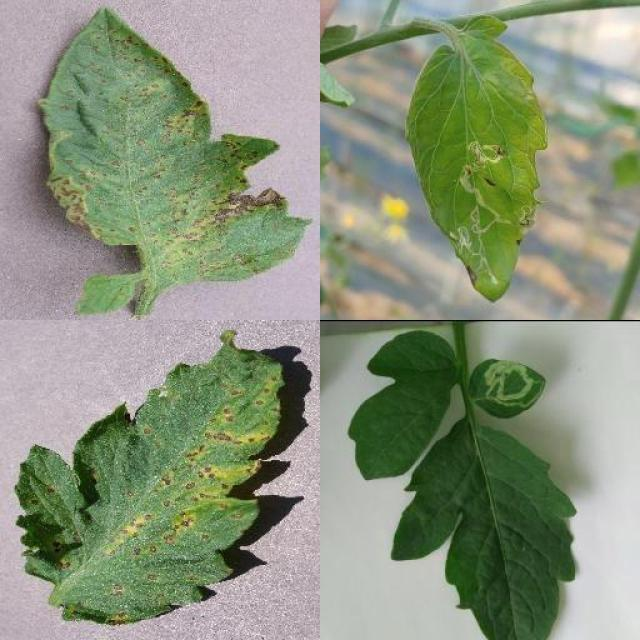Healthy: (390, 415, 579, 640), (348, 329, 460, 479)
Septoria: (15, 330, 285, 625), (35, 6, 314, 286)
